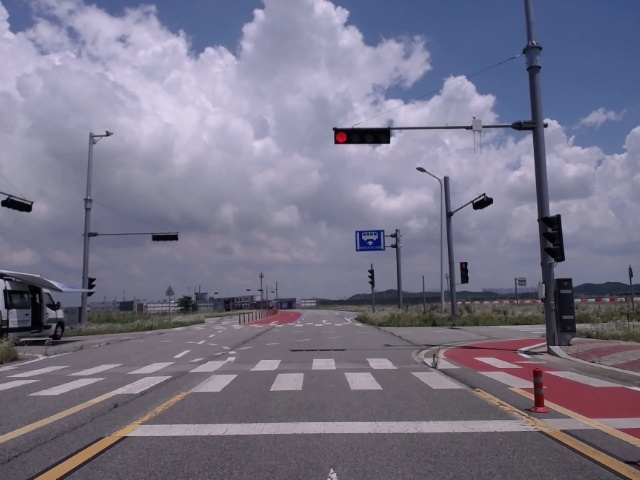red_4: (334, 129, 390, 145)
